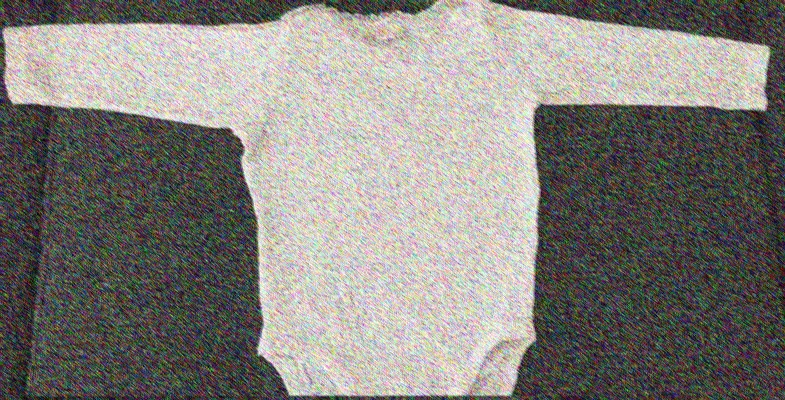Body: (13, 4, 776, 395)
